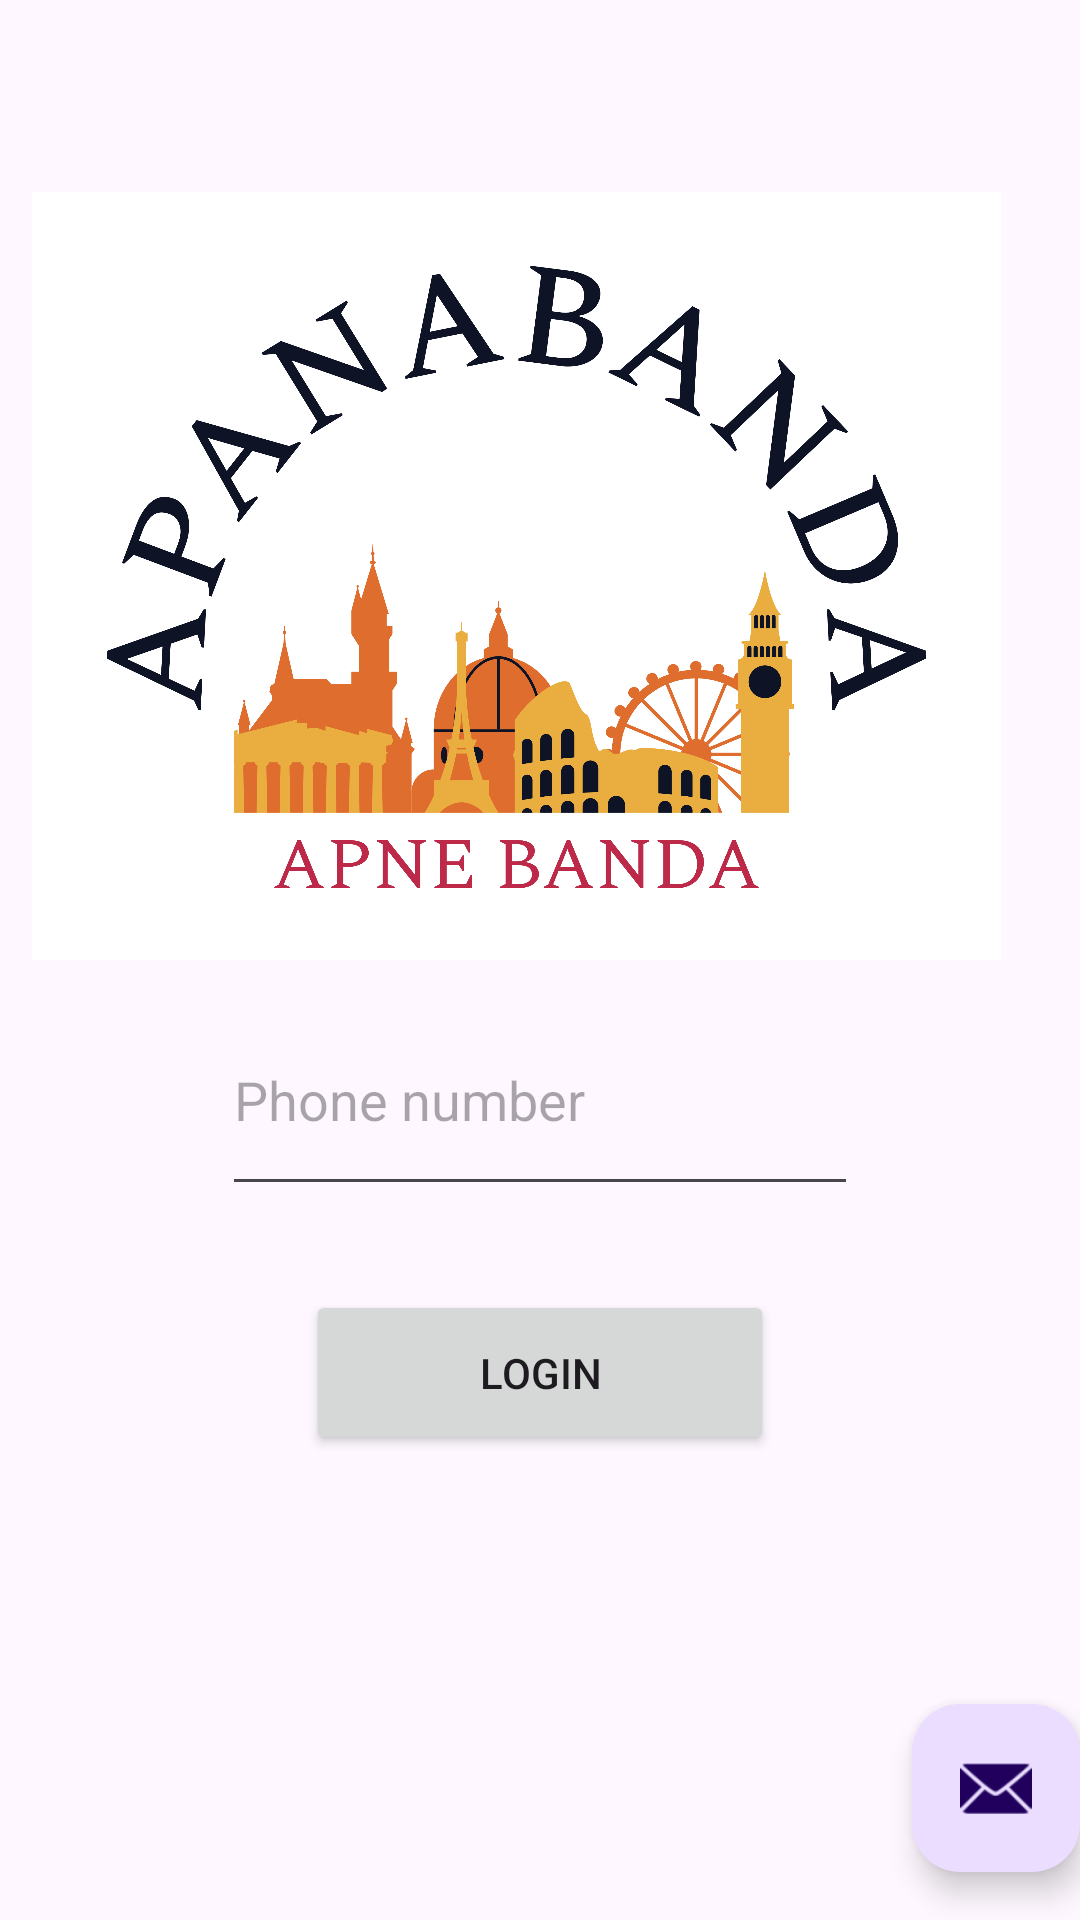

Named icons in this screenshot (1080 × 1920) and their bounding boxes, (x1, y1, x2, y2):
email: (912, 1704, 1080, 1872)
